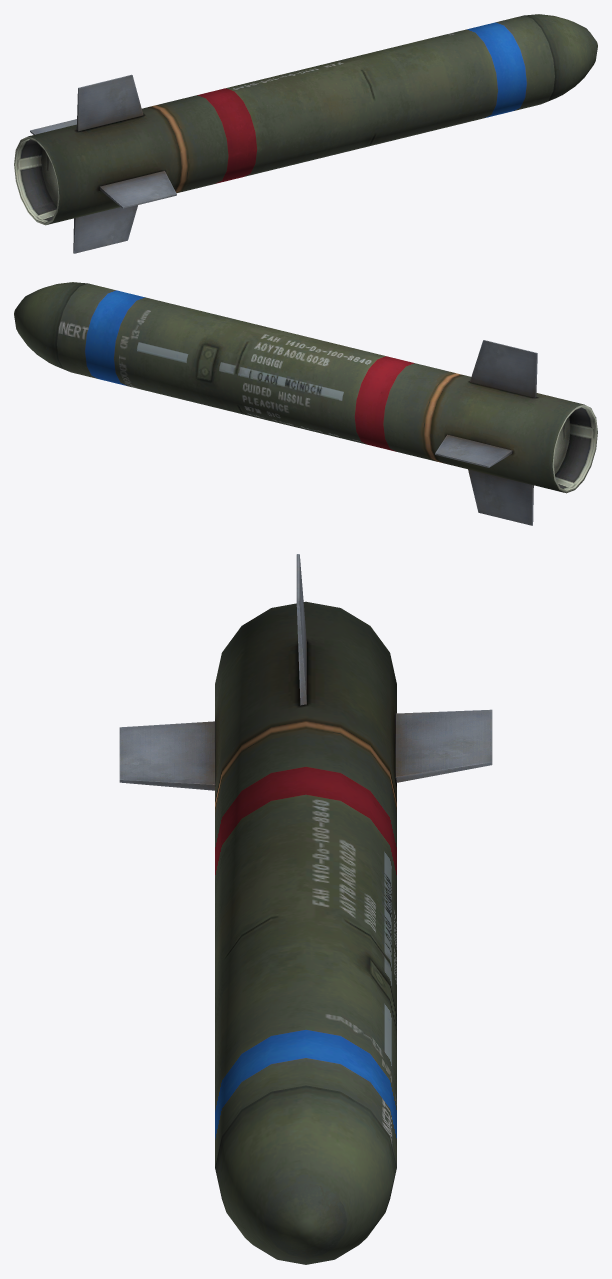
The picture shows the model from 3 angles, top to bottom: view 1: azimuth 30°, elevation 25°; view 2: azimuth 150°, elevation 25°; view 3: azimuth 270°, elevation 25°; orthographic projection. The views are drawn at different scales.
Visible parts, largest first — view 1: AT_05_LOD0; view 2: AT_05_LOD0; view 3: AT_05_LOD0.
Boxes of the visible parts, x1=… form: AT_05_LOD0: x1=14, y1=14, x2=597, y2=253; AT_05_LOD0: x1=14, y1=282, x2=597, y2=525; AT_05_LOD0: x1=119, y1=554, x2=492, y2=1264.
Size of the model in its own units: 12.38 by 3.57 by 3.57.
